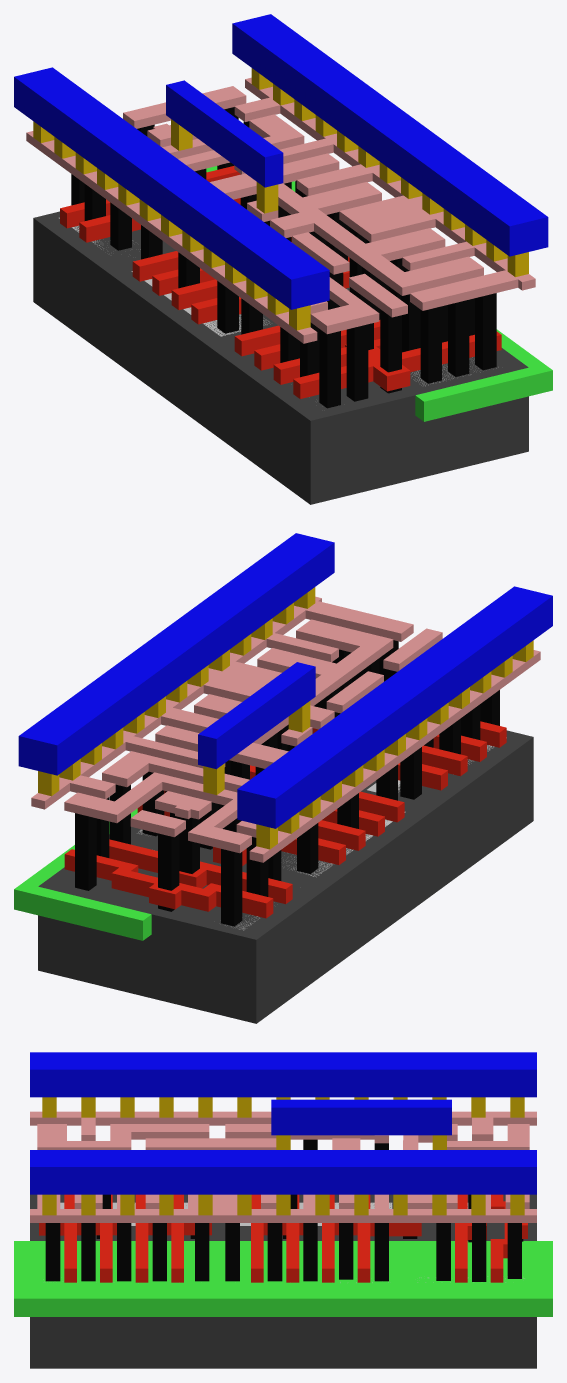
File: sky130_fd_sc_hd__nand4bb_2.obj
3 renders of one model, top to bottom at view 1: azimuth 30°, elevation 25°; view 2: azimuth 150°, elevation 25°; view 3: azimuth 270°, elevation 25°, orthographic. The views are drawn at different scales.
Visible parts, largest first — view 1: subs, metal1, li, licon, poly, mcon, nwell; view 2: subs, metal1, li, licon, poly, mcon, nwell; view 3: metal1, subs, nwell, li, licon, poly, mcon.
Boxes of the visible parts, x1,y1,x2,y2 form: subs: (33, 211, 528, 504); metal1: (14, 14, 548, 309); li: (26, 77, 535, 343); licon: (71, 107, 496, 408); poly: (60, 166, 501, 398); mcon: (33, 68, 528, 330); nwell: (206, 166, 552, 421); subs: (38, 730, 533, 1023); metal1: (18, 533, 552, 828); li: (31, 596, 540, 862); licon: (75, 640, 499, 926); poly: (64, 721, 506, 918); mcon: (38, 587, 533, 849); nwell: (14, 808, 151, 940); metal1: (30, 1052, 536, 1194); subs: (30, 1194, 536, 1368); nwell: (14, 1241, 552, 1316); li: (30, 1111, 536, 1222); licon: (45, 1139, 523, 1281); poly: (39, 1194, 527, 1282); mcon: (42, 1097, 524, 1215).
Size of the model in its own units: 3.2 by 2.74 by 6.36.
